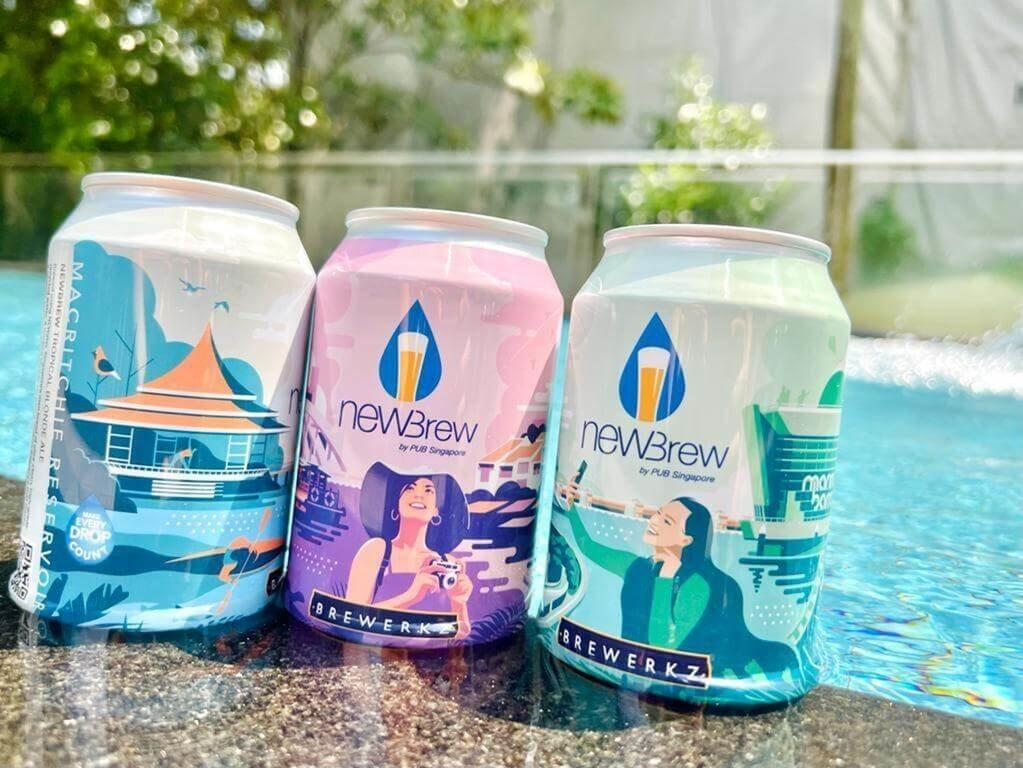metal: (549, 219, 853, 704), (17, 164, 296, 644), (279, 204, 560, 659)
